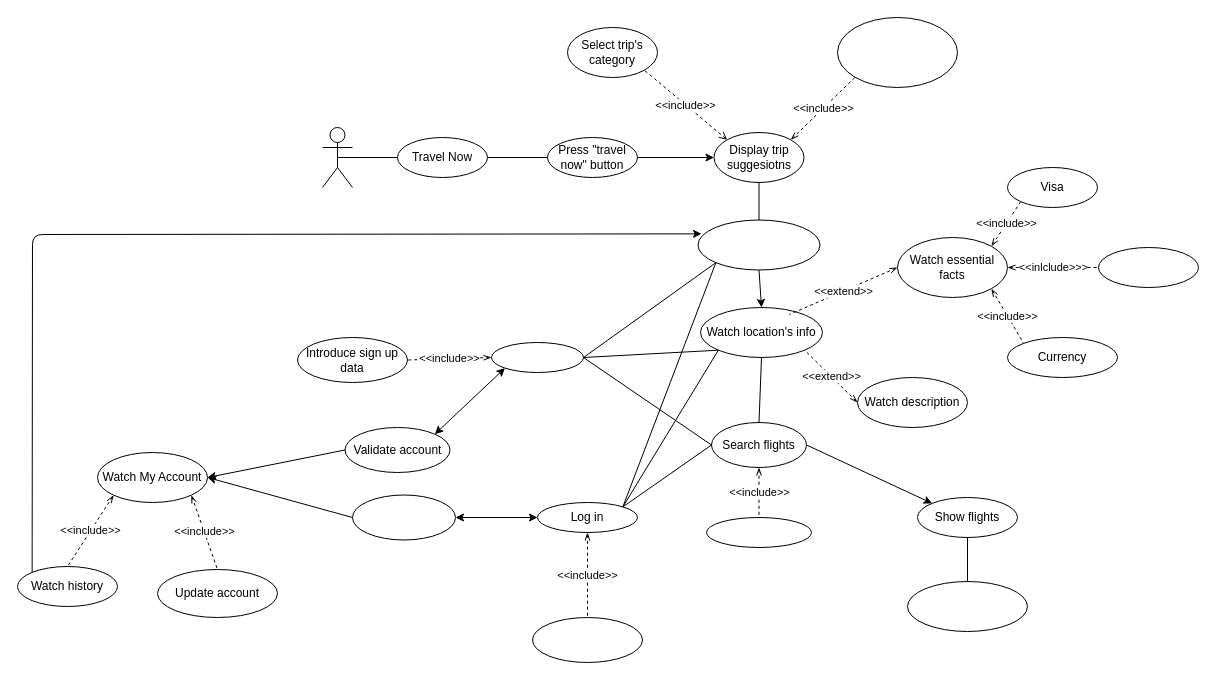
Some shapes in this 1216 by 680 pixel diagram are drawn without their labels. Here are the shapes that lost their labels. From the top down, the box of each, then its label:
(836, 16, 958, 88): Display trip sugestions from specific category
(322, 126, 352, 188): User
(697, 219, 820, 270): Select location
(1098, 246, 1198, 288): Electricity
(490, 342, 584, 372): Sign up
(352, 494, 456, 540): Validate Log in
(706, 516, 812, 548): select parameters
(906, 580, 1028, 632): Save flight
(532, 616, 642, 662): introduce user name and password
